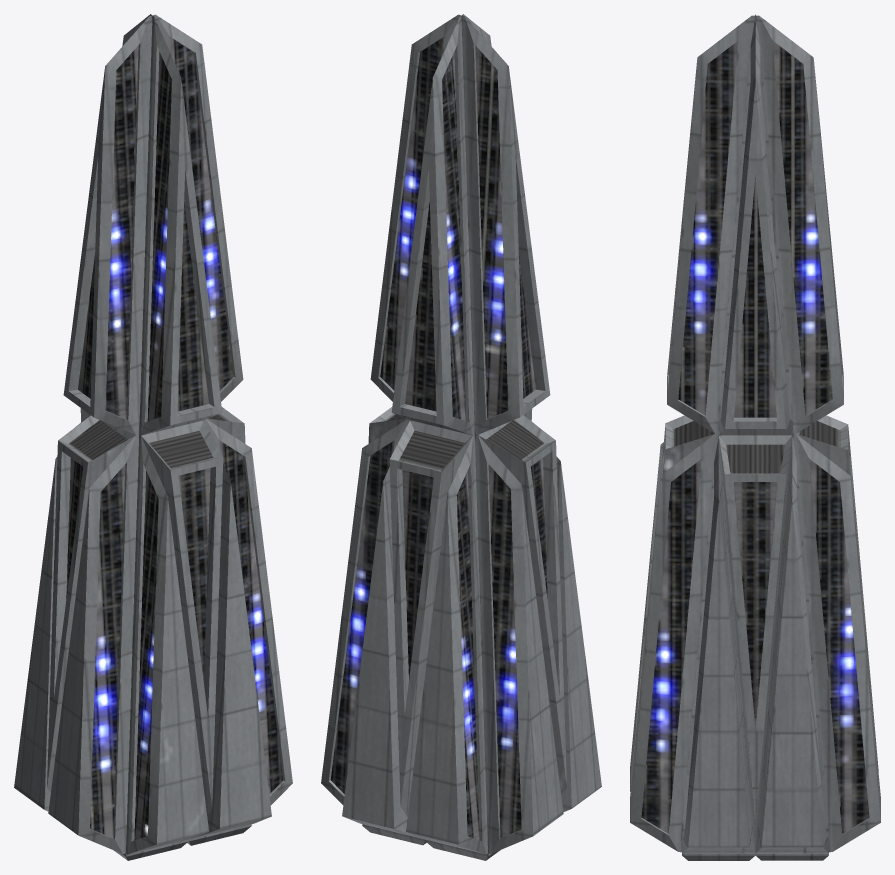
The model's file is Courthouse.FBX.
The picture shows the model from 3 angles, left to right: view 1: azimuth 30°, elevation 25°; view 2: azimuth 150°, elevation 25°; view 3: azimuth 270°, elevation 25°; orthographic projection.
Parts seen in each view (by area): view 1: courthouse; view 2: courthouse; view 3: courthouse.
Boxes of the visible parts, x1,y1,x2,y2 form: courthouse: [14, 14, 292, 860]; courthouse: [321, 14, 601, 860]; courthouse: [630, 14, 880, 860].
Bounding box in the file's own units: 341 × 1227 × 341.
Materials: 1 (1 with a texture image).
